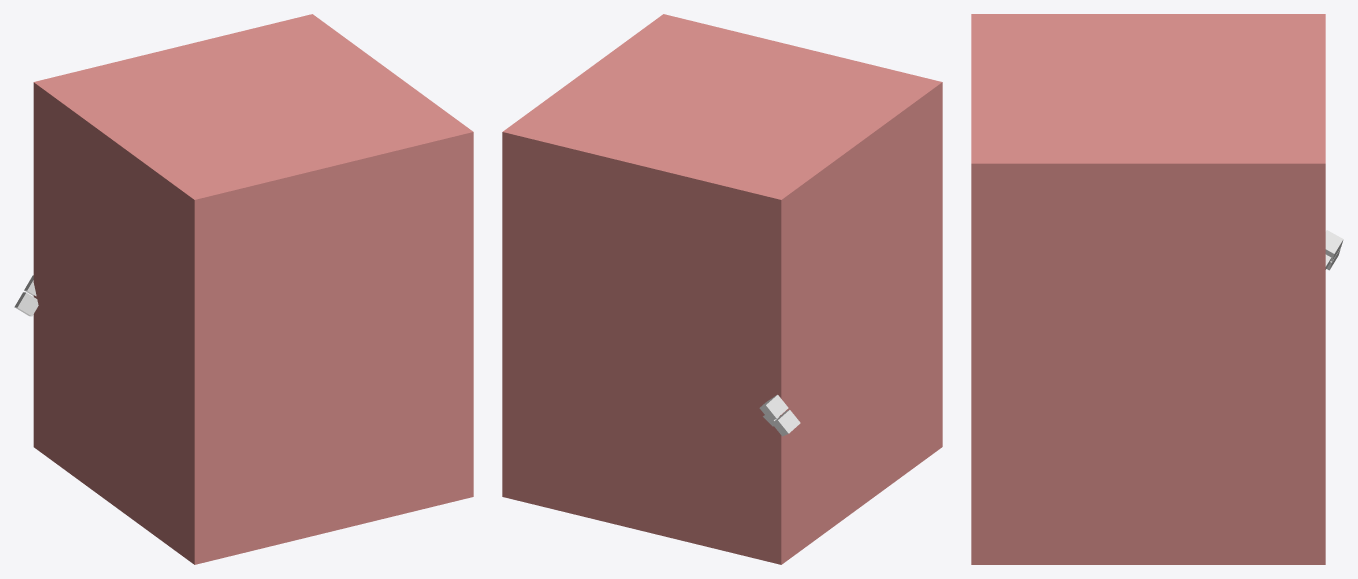
Rendered from Enemy_Exploserd01.fbx.
3 views of the same model, side by side, from view 1: azimuth 30°, elevation 25°; view 2: azimuth 150°, elevation 25°; view 3: azimuth 270°, elevation 25° (orthographic). The views are drawn at different scales.
Visible parts, largest first — view 1: Cube.006; view 2: Cube.006; view 3: Cube.006.
Part boxes in pixels (x1,y1,x2,y2): Cube.006: (14, 14, 473, 564); Cube.006: (502, 14, 942, 564); Cube.006: (971, 14, 1343, 564).
Size of the model in its own units: 213 by 250 by 210.
